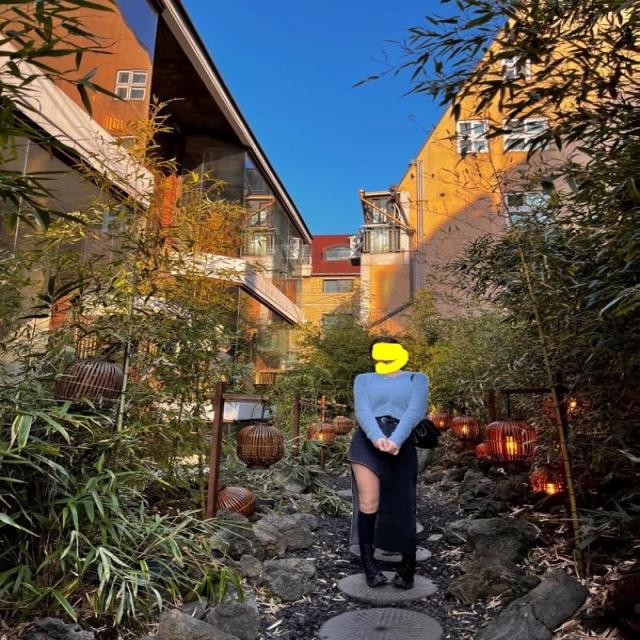cardigan: (354, 370, 426, 446)
skirt: (347, 418, 420, 561)
